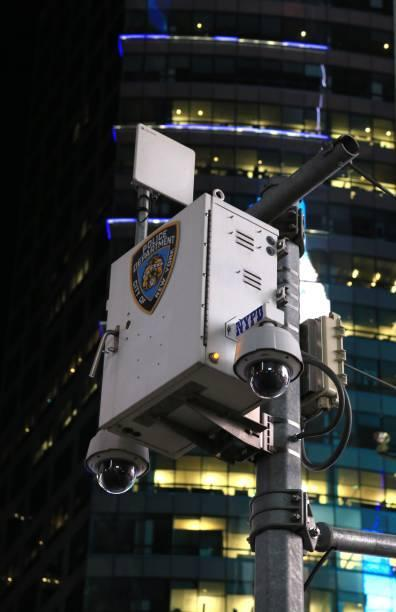camera: (225, 302, 317, 417), (73, 417, 167, 513)
